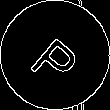P_NE: (24, 23, 86, 87)
